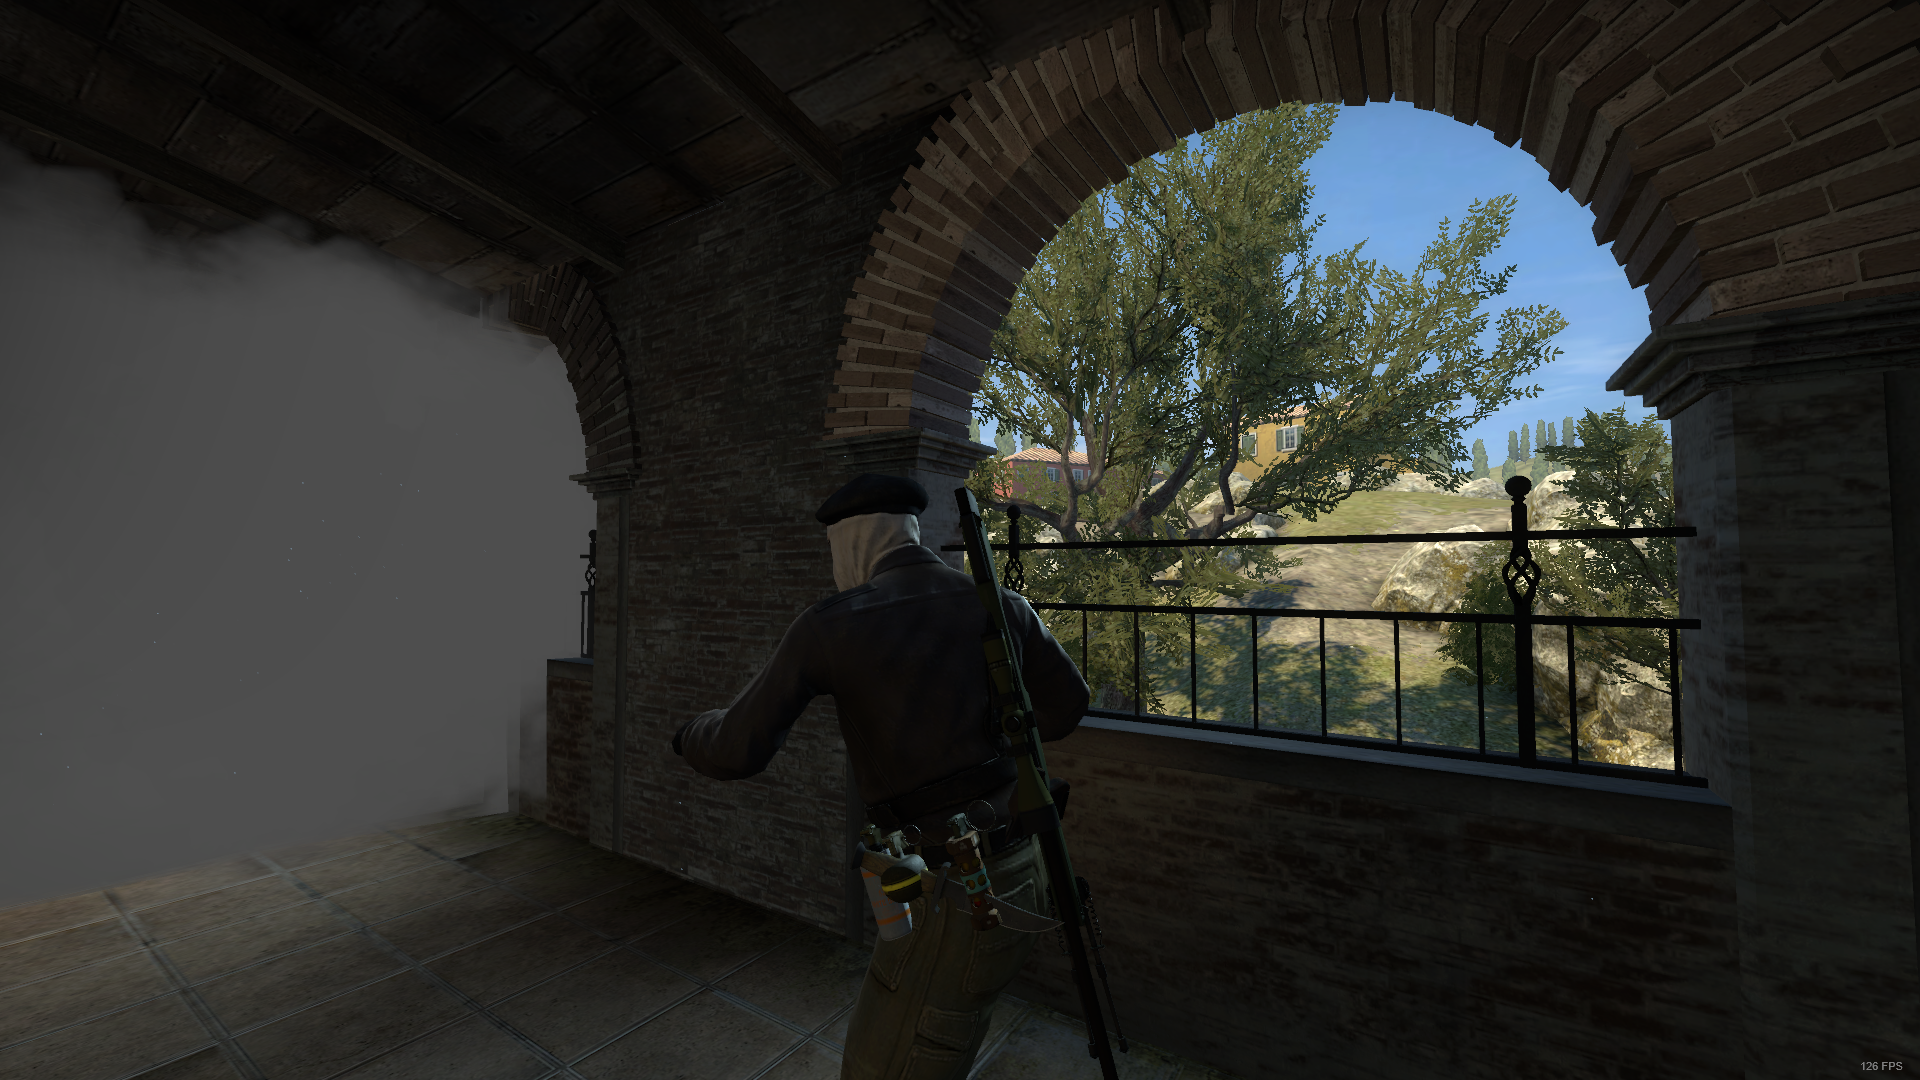t: (674, 473, 1091, 1080)
